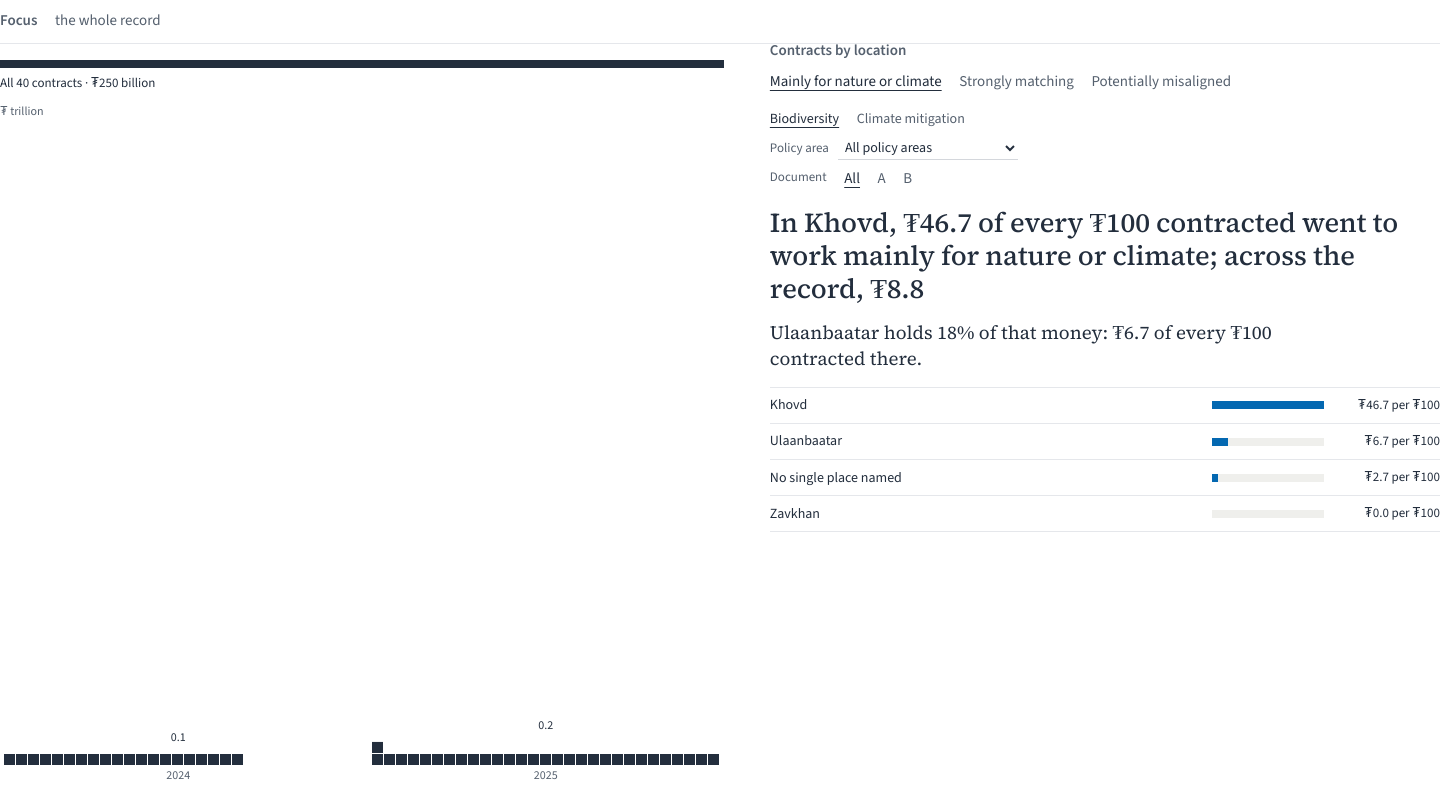
Scenario: ContractsSection › takes a target behind a place to the centre of the ring, closing the panel first
(page scrolled)
Click the button "Khovd ₮46.7 per ₮100".
click(789, 405)  # box [770,388,1439,423]
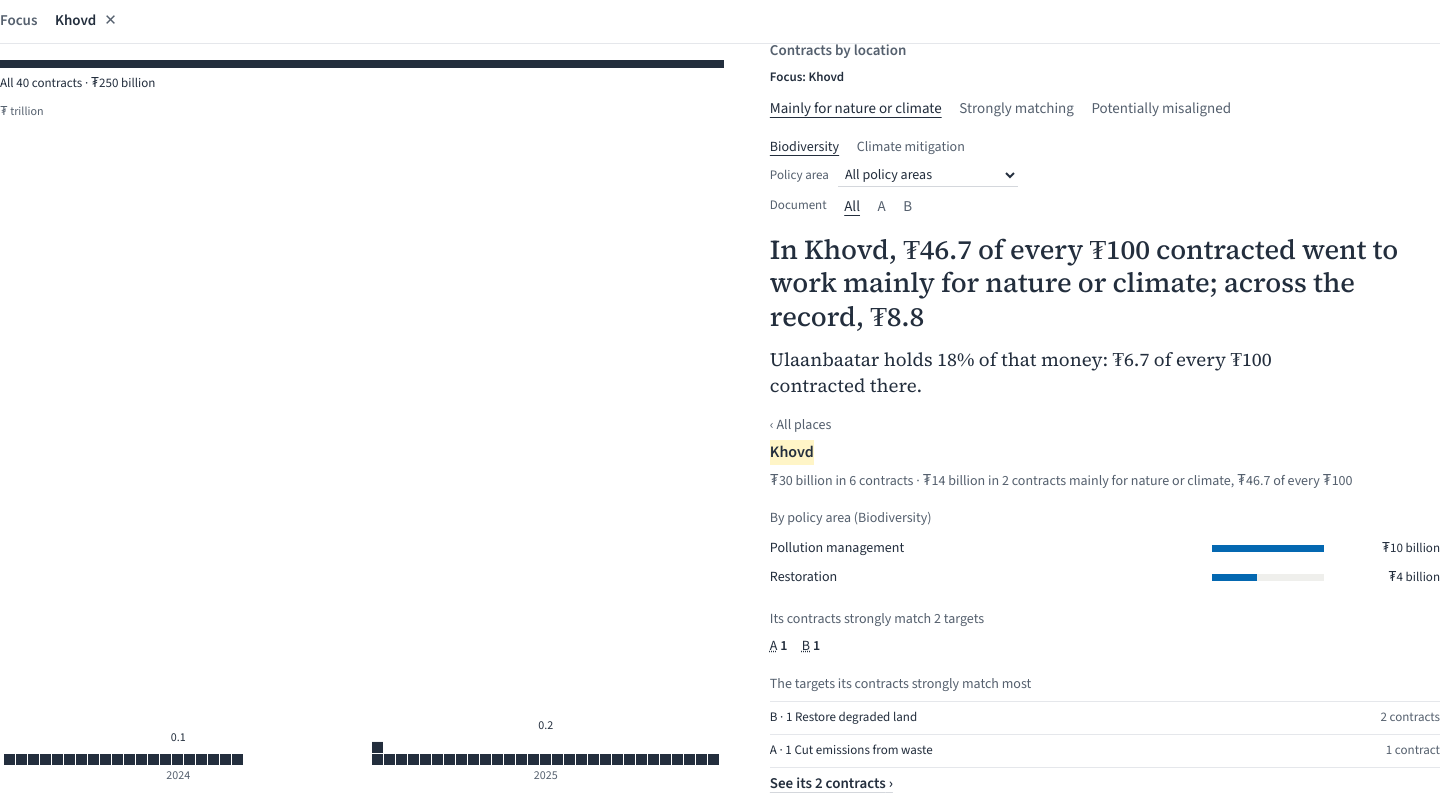
Click the button "B · 1 Restore degraded land 2 contracts".
click(843, 717)  # box [770,702,1439,734]
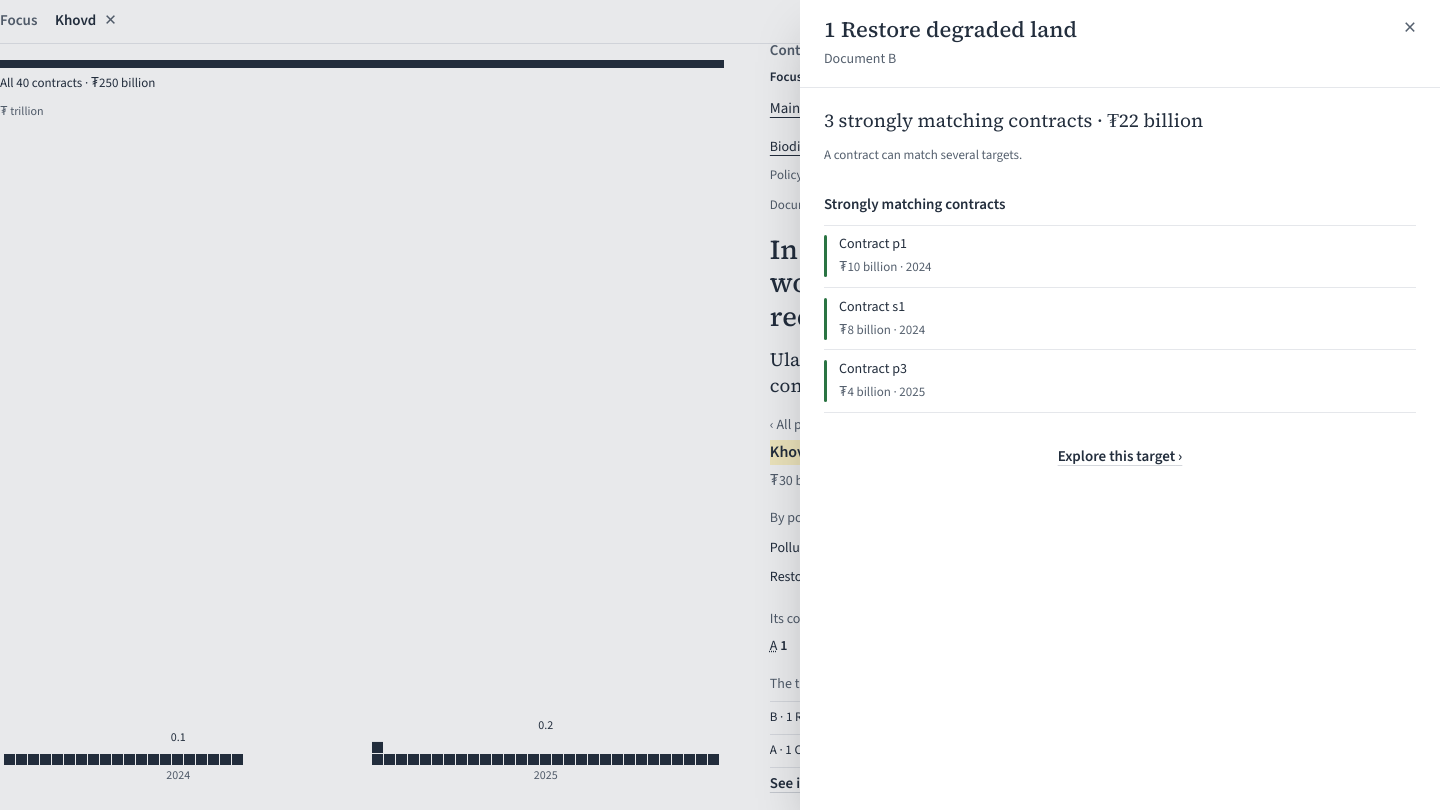
Click the button "Explore this target ›".
click(1120, 456)  # box [824,445,1416,468]
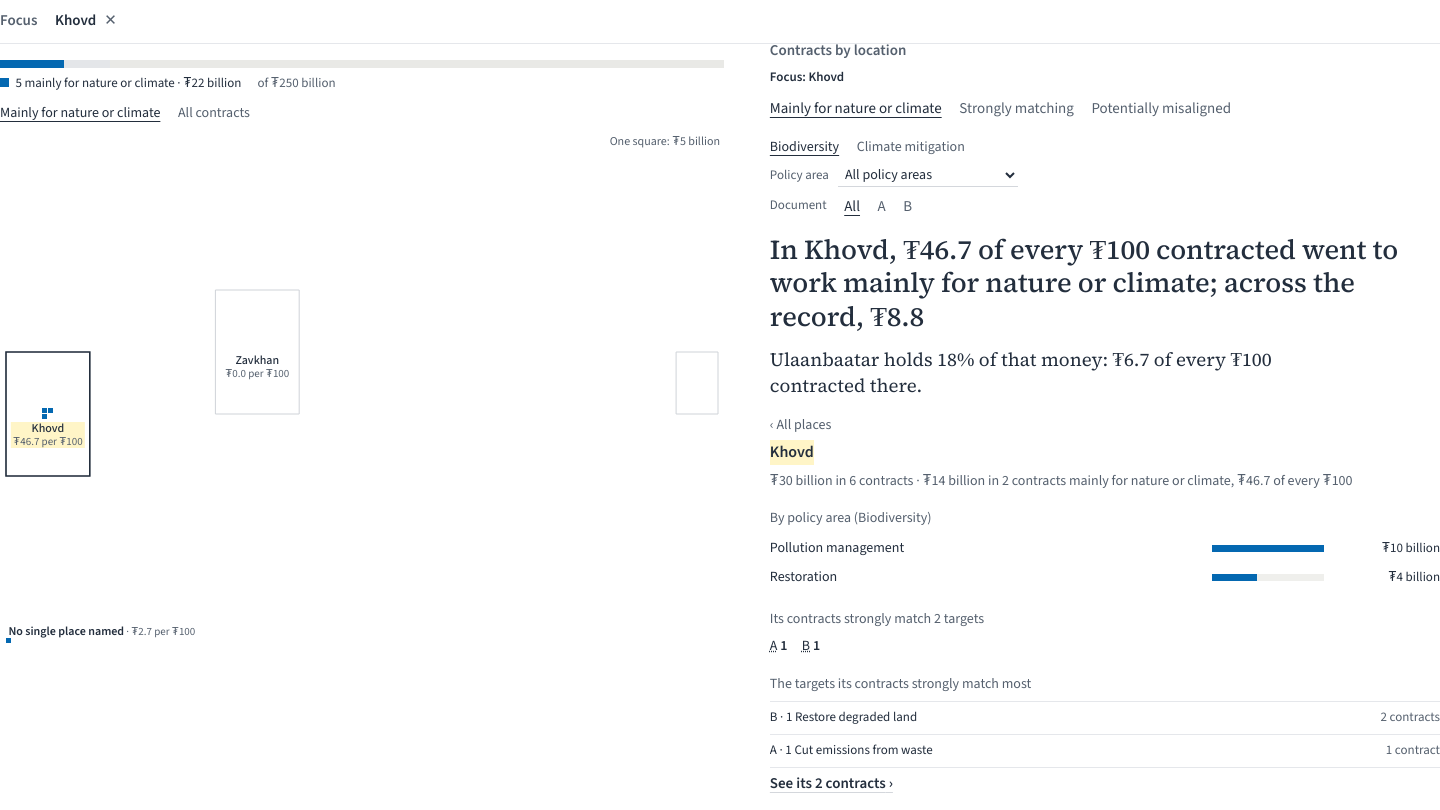
Expected: the dialog is gone
